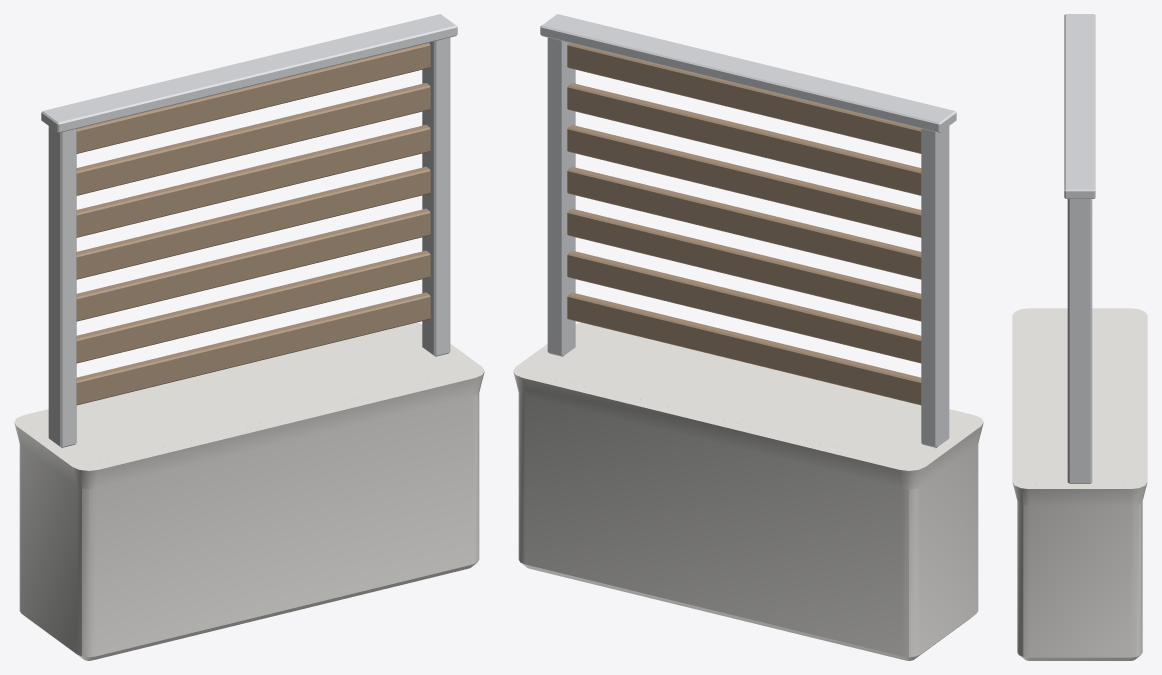
The model's file is fast-food-and-drive-thru-planter-divider-c6b6214e__16188.glb.
The picture shows the model from 3 angles, left to right: view 1: azimuth 30°, elevation 25°; view 2: azimuth 150°, elevation 25°; view 3: azimuth 270°, elevation 25°; orthographic projection. The views are drawn at different scales.
Parts seen in each view (by area): view 1: planter-divider; view 2: planter-divider; view 3: planter-divider.
Boxes of the visible parts, x1,y1,x2,y2 form: planter-divider: [14, 14, 484, 660]; planter-divider: [513, 14, 983, 660]; planter-divider: [1012, 14, 1147, 660].
Bounding box in the file's own units: 1.23 × 1.5 × 0.388.
